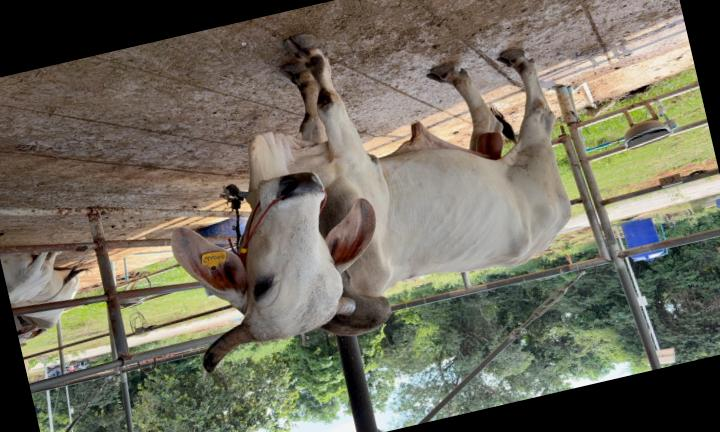Brahman: (172, 35, 571, 372)
